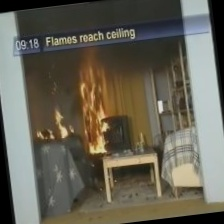fire: (57, 61, 115, 163)
